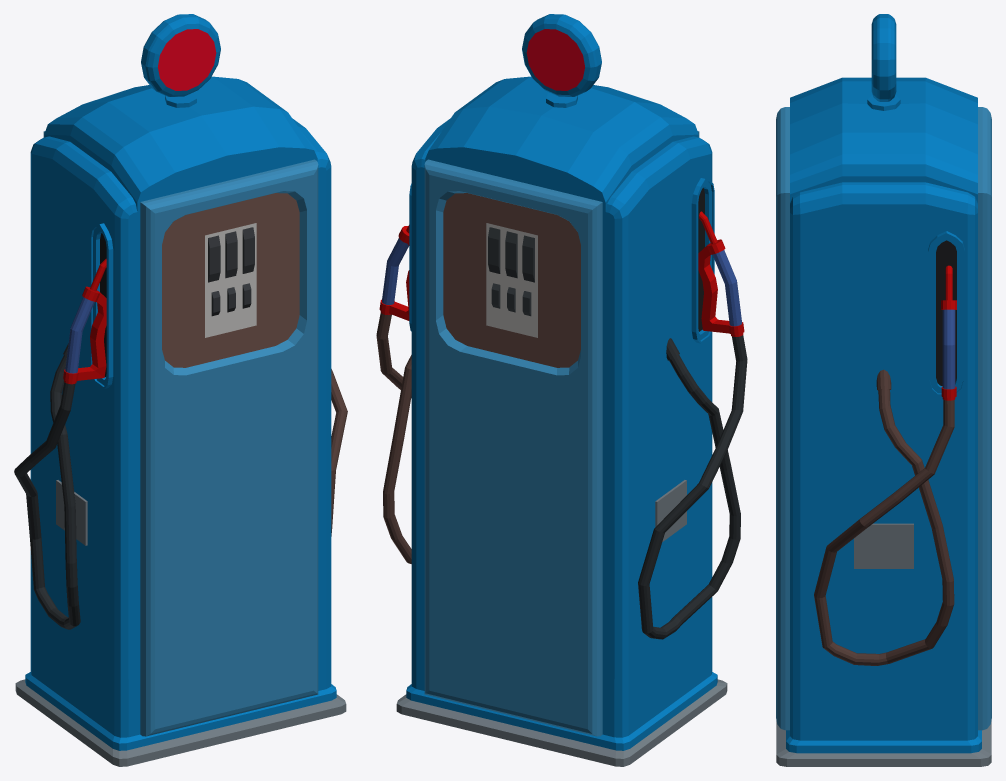
Rendered from Petrol-Station.gltf.
3 views of the same model, side by side, from view 1: azimuth 30°, elevation 25°; view 2: azimuth 150°, elevation 25°; view 3: azimuth 270°, elevation 25° (orthographic).
Parts seen in each view (by area): view 1: Petrol-Station; view 2: Petrol-Station; view 3: Petrol-Station.
Boxes of the visible parts, box(x1,y1,x2,y2) form: Petrol-Station: box(14, 14, 347, 766); Petrol-Station: box(376, 14, 747, 766); Petrol-Station: box(776, 14, 991, 766).
Size of the model in its own units: 0.7369 by 1.52 by 0.4315.
